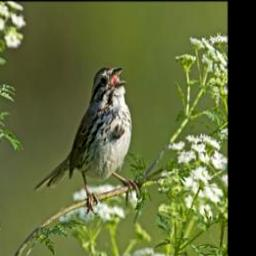Sparrow: (33, 64, 144, 217)
